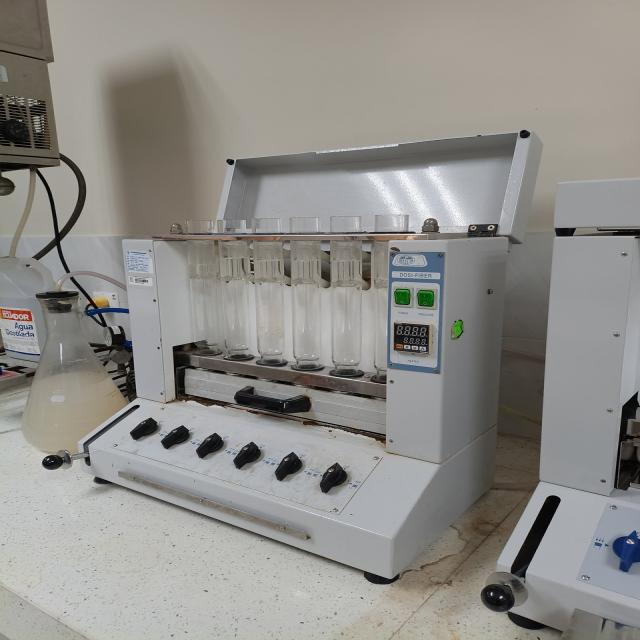Analizador de Fibra Cruda y Fracciones: (77, 130, 541, 583)
